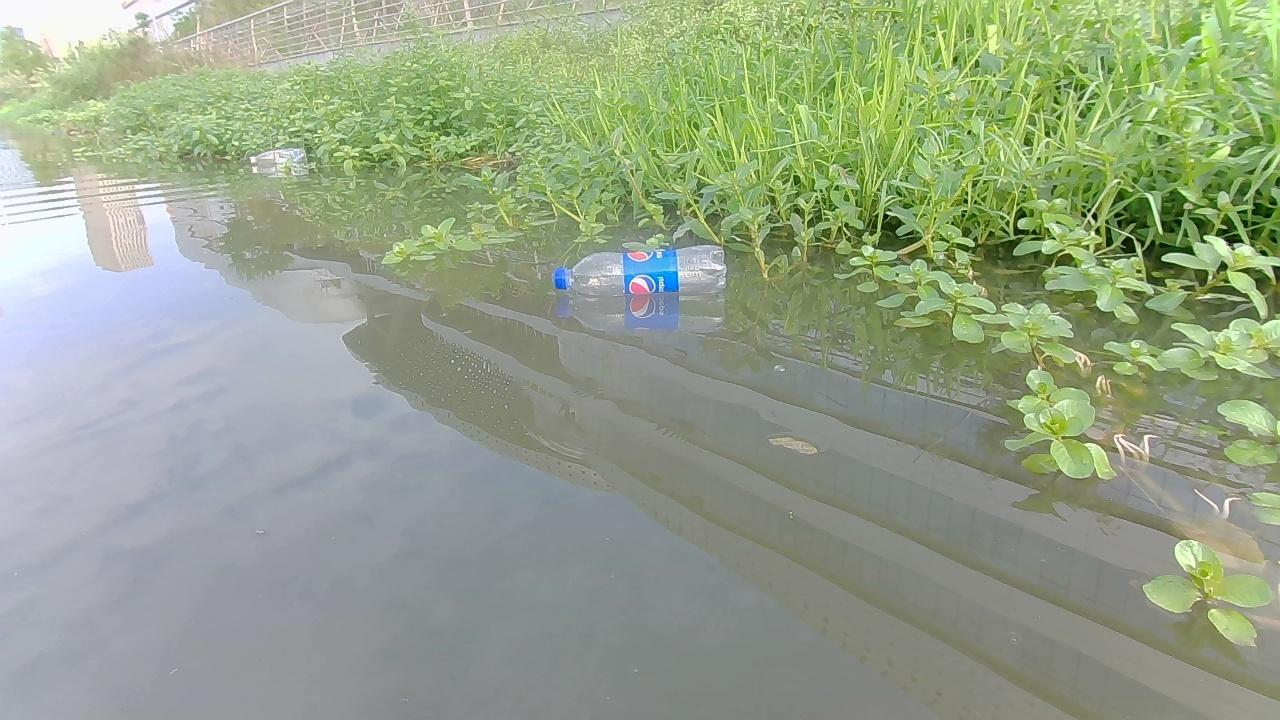bottle: (551, 242, 728, 297), (249, 147, 315, 168)
